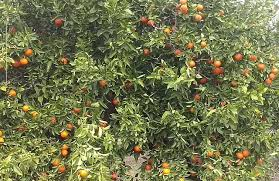orange: (59, 130, 70, 139)
